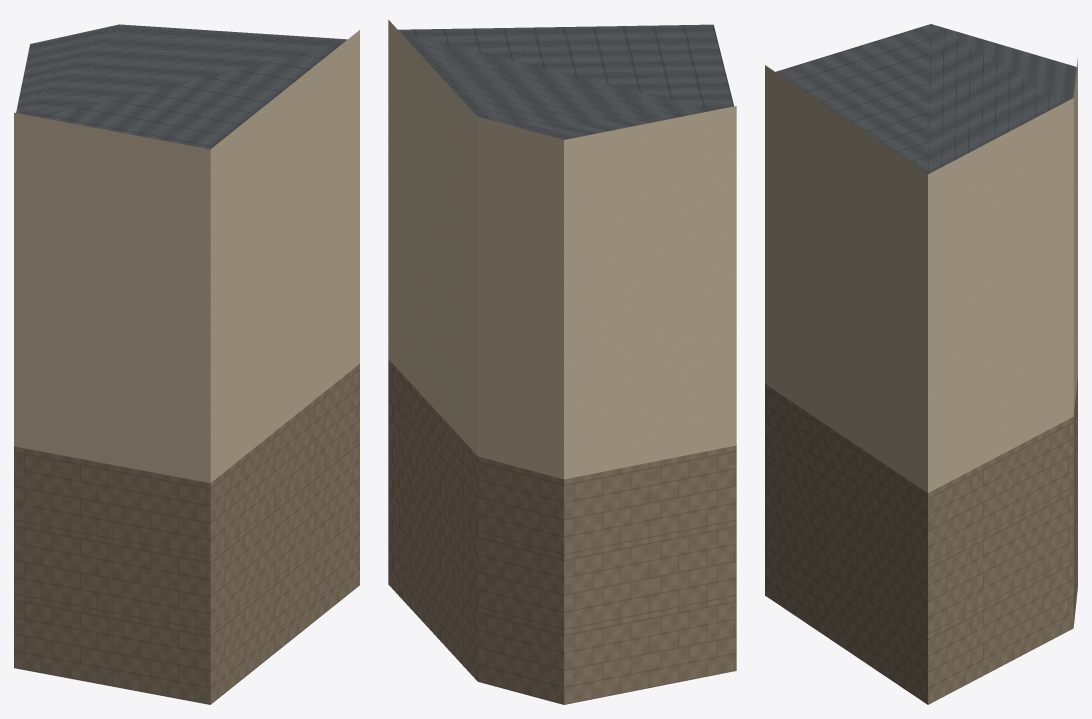
Rendered from bld_c23_-49_532.gltf.
3 renders of one model, left to right at view 1: azimuth 30°, elevation 25°; view 2: azimuth 150°, elevation 25°; view 3: azimuth 270°, elevation 25°, orthographic. The views are drawn at different scales.
Visible parts, largest first — view 1: bld_c23_-49_532; view 2: bld_c23_-49_532; view 3: bld_c23_-49_532.
Part boxes in pixels (box(x1,y1,x2,y2)): bld_c23_-49_532: box(14, 24, 359, 704); bld_c23_-49_532: box(388, 20, 736, 704); bld_c23_-49_532: box(765, 24, 1077, 704).
Size of the model in its own units: 8.29 by 12.78 by 6.83.
4 materials, 4 textured.
